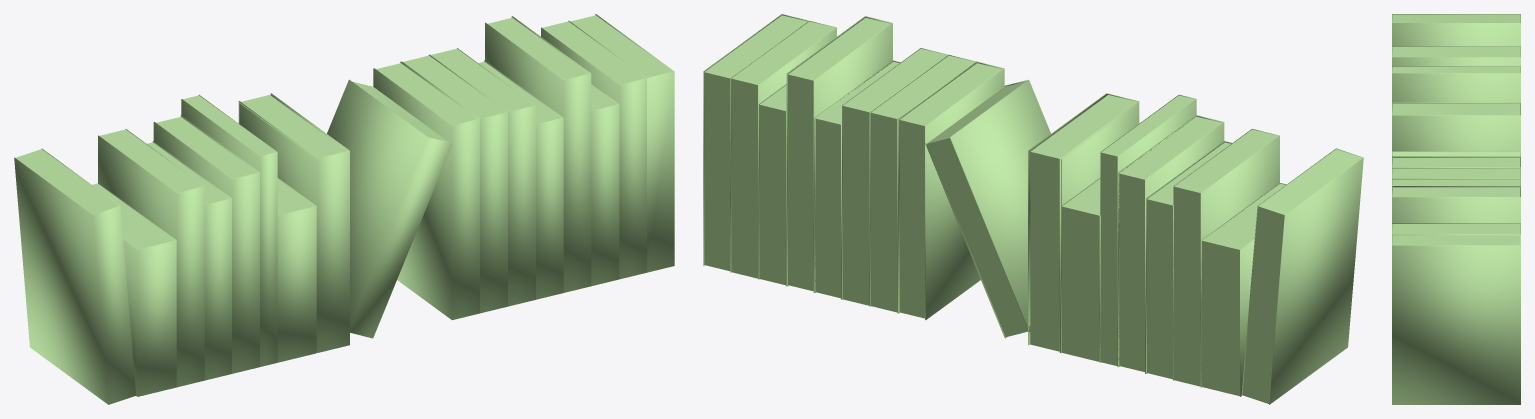
Rendered from Libros 2.fbx.
The picture shows the model from 3 angles, left to right: view 1: azimuth 30°, elevation 25°; view 2: azimuth 150°, elevation 25°; view 3: azimuth 270°, elevation 25°; orthographic projection. The views are drawn at different scales.
Visible parts, largest first — view 1: Books 2; view 2: Books 2; view 3: Books 2.
Boxes of the visible parts, x1,y1,x2,y2 form: Books 2: [14, 14, 674, 404]; Books 2: [703, 14, 1363, 404]; Books 2: [1392, 14, 1520, 404].
Bounding box in the file's own units: 94 × 32.95 × 22.
